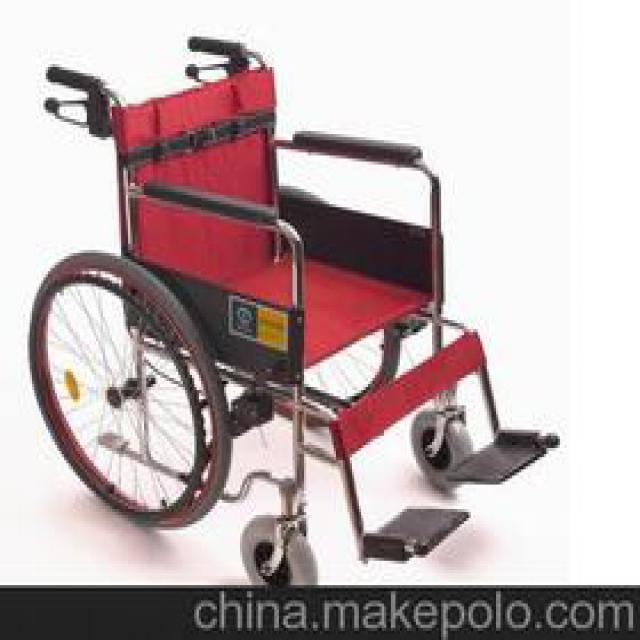wheelchair: (20, 31, 562, 580)
